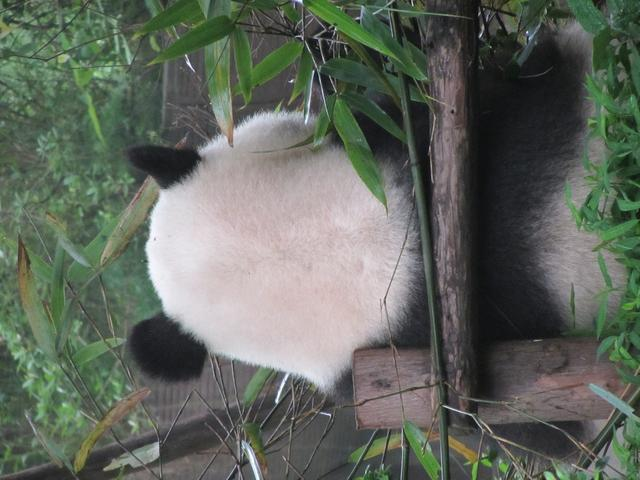panda: (95, 68, 557, 408)
